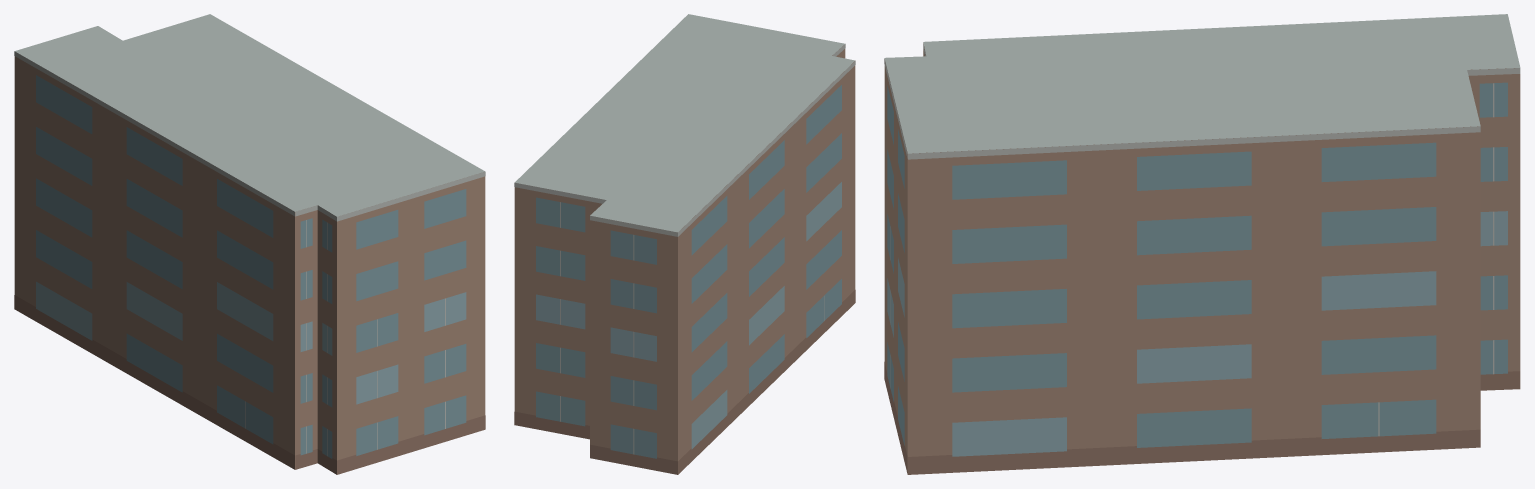
The model's file is survey-upis-32654168.glb.
3 views of the same model, side by side, from view 1: azimuth 30°, elevation 25°; view 2: azimuth 150°, elevation 25°; view 3: azimuth 270°, elevation 25° (orthographic). The views are drawn at different scales.
Visible parts, largest first — view 1: survey-upis-32654168.tmp; view 2: survey-upis-32654168.tmp; view 3: survey-upis-32654168.tmp.
Boxes of the visible parts, x1,y1,x2,y2 form: survey-upis-32654168.tmp: (14, 14, 485, 474); survey-upis-32654168.tmp: (514, 14, 855, 474); survey-upis-32654168.tmp: (884, 14, 1520, 474).
Size of the model in its own units: 12.27 by 13.15 by 23.61.
